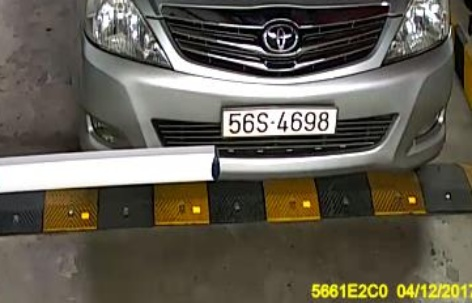plate: (216, 104, 342, 137)
